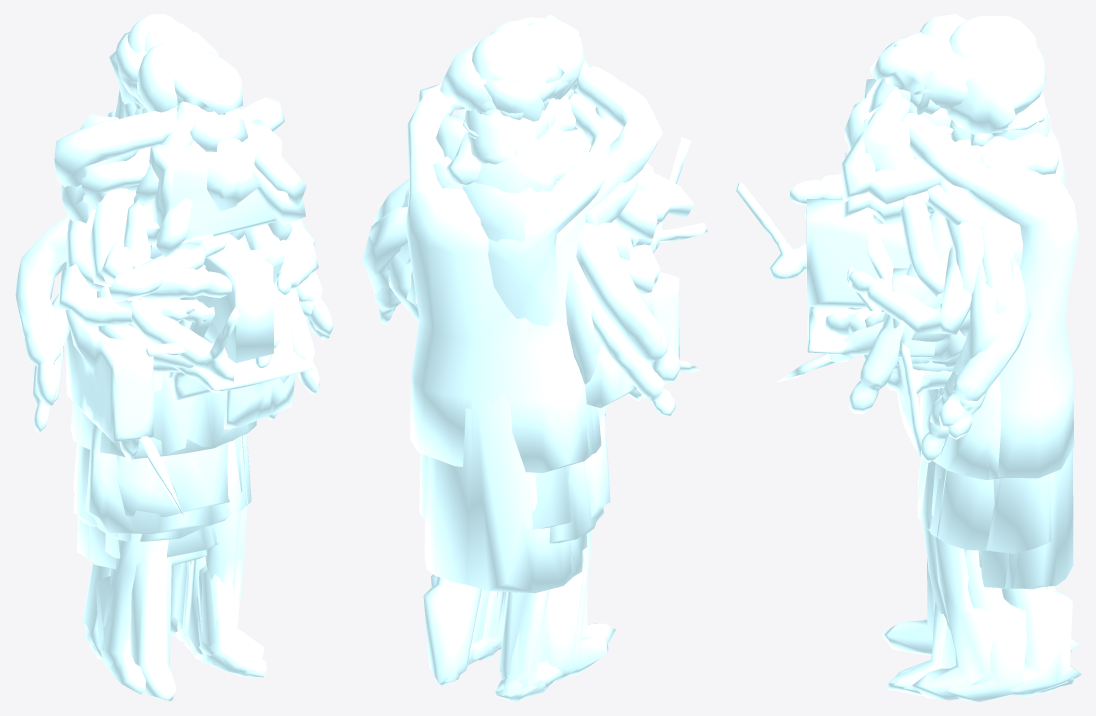
The model's file is echo_named.glb.
3 renders of one model, left to right at view 1: azimuth 30°, elevation 25°; view 2: azimuth 150°, elevation 25°; view 3: azimuth 270°, elevation 25°, orthographic. The views are drawn at different scales.
Parts seen in each view (by area): view 1: welder_c, welder_b, scientist_f_b, operator_b, scientist_f_a, scientist_f_c, scientist_m_a, welder_a, operator_a, scientist_m_c, technician_m_a, scientist_m_b (+12 smaller); view 2: welder_c, technician_m_c, archivist_a, welder_b, archivist_c, operator_c, scientist_m_c, technician_m_a, scientist_f_a, scientist_m_a, scientist_m_b, operator_b (+11 smaller); view 3: welder_c, welder_a, scientist_f_b, welder_b, technician_m_c, operator_b, scientist_m_c, scientist_f_c, scientist_m_a, archivist_c, technician_m_a, scientist_m_b (+11 smaller).
Part boxes in pixels (bbox=[...]): welder_c: bbox=[14, 31, 284, 701]; welder_b: bbox=[54, 41, 264, 674]; scientist_f_b: bbox=[57, 107, 318, 536]; operator_b: bbox=[73, 51, 319, 491]; scientist_f_a: bbox=[65, 107, 277, 653]; scientist_f_c: bbox=[114, 89, 292, 307]; scientist_m_a: bbox=[66, 41, 287, 650]; welder_a: bbox=[77, 49, 307, 694]; operator_a: bbox=[106, 51, 242, 641]; scientist_m_c: bbox=[80, 14, 306, 677]; technician_m_a: bbox=[79, 423, 251, 648]; scientist_m_b: bbox=[89, 20, 232, 301]; welder_c: bbox=[405, 42, 680, 686]; technician_m_c: bbox=[362, 93, 619, 701]; archivist_a: bbox=[465, 392, 573, 660]; welder_b: bbox=[388, 61, 662, 681]; archivist_c: bbox=[374, 94, 577, 698]; operator_c: bbox=[462, 55, 564, 696]; scientist_m_c: bbox=[454, 14, 589, 701]; technician_m_a: bbox=[415, 261, 610, 534]; scientist_f_a: bbox=[489, 106, 679, 655]; scientist_m_a: bbox=[528, 19, 632, 260]; scientist_m_b: bbox=[436, 21, 659, 238]; operator_b: bbox=[478, 17, 691, 662]; welder_c: bbox=[881, 52, 1081, 697]; welder_a: bbox=[776, 51, 1026, 701]; scientist_f_b: bbox=[806, 119, 971, 334]; welder_b: bbox=[912, 55, 1000, 700]; technician_m_c: bbox=[886, 259, 1079, 695]; operator_b: bbox=[736, 32, 953, 414]; scientist_m_c: bbox=[842, 15, 1076, 694]; scientist_f_c: bbox=[864, 78, 1073, 693]; scientist_m_a: bbox=[864, 14, 984, 673]; archivist_c: bbox=[899, 127, 1073, 690]; technician_m_a: bbox=[917, 468, 994, 674]; scientist_m_b: bbox=[790, 15, 1023, 405].
Bounding box in the file's own units: 0.8828 × 1.85 × 0.8845.
